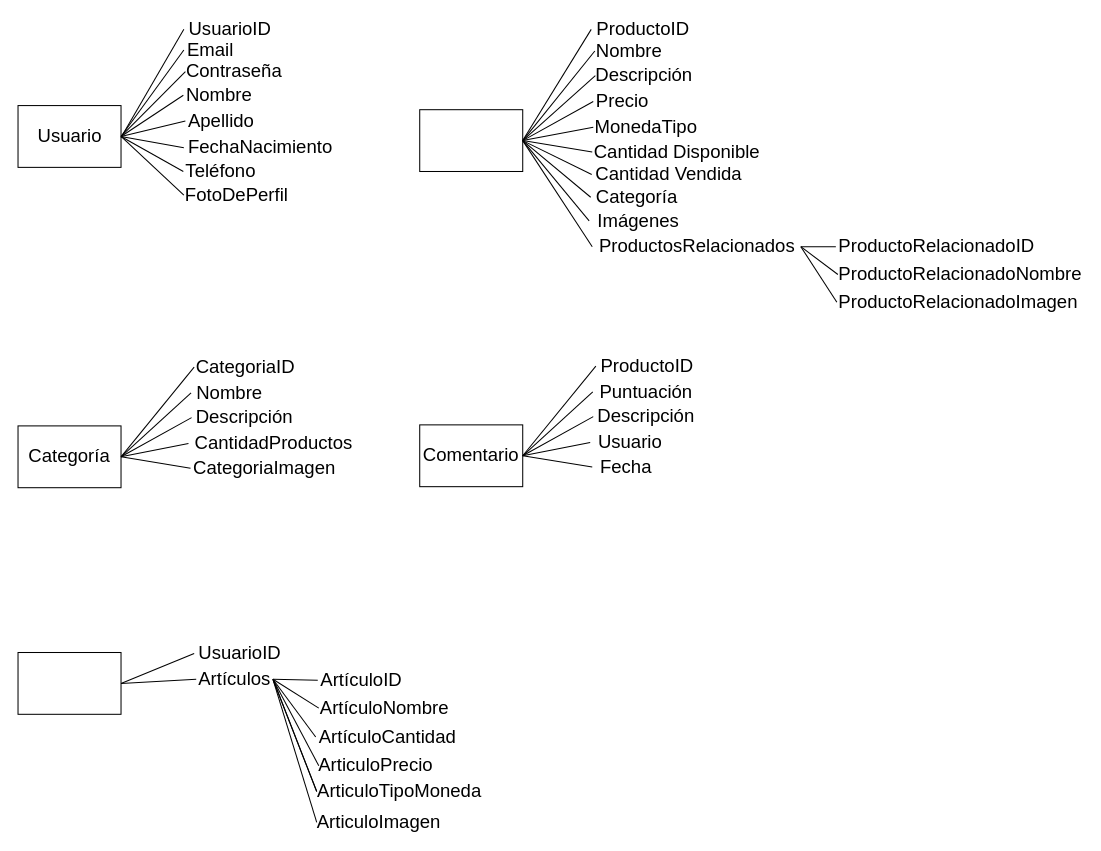
Some shapes in this 1101 by 851 pixel diagram are drawn without their labels. The shapes that lost their labels are listed below. From the top down, each one's box as (x1, y1, x2, y2) in pixels, then its label:
(419, 109, 523, 171): Producto
(17, 651, 121, 714): Carrito
